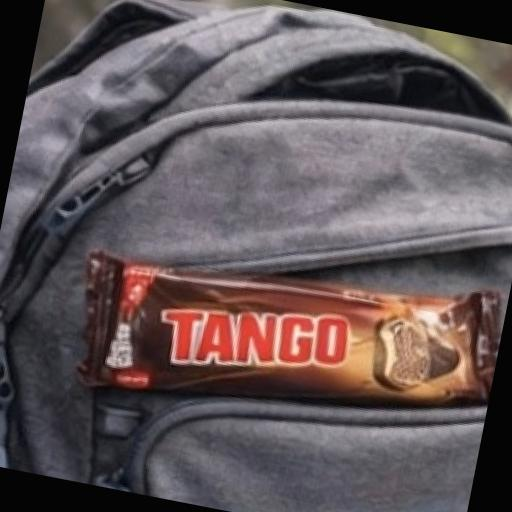tango: (30, 180, 512, 486)
